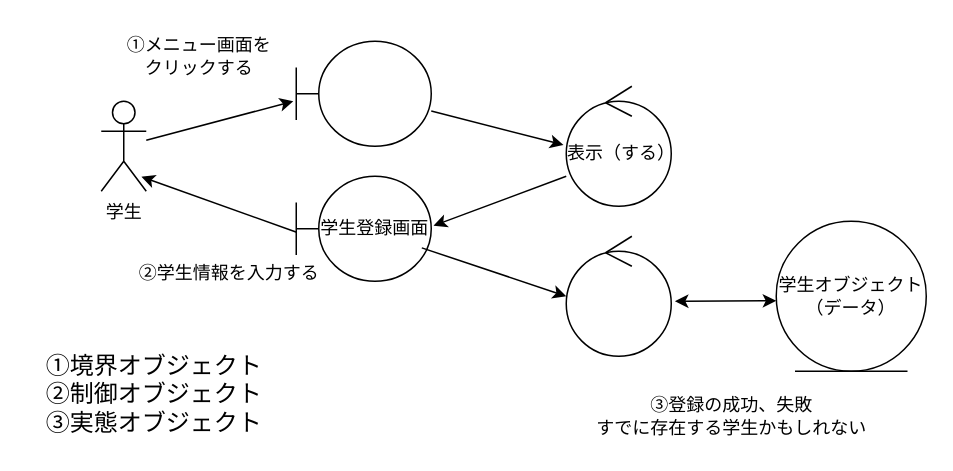
Some shapes in this 953 by 471 pixel diagram are drawn without their labels. Each missing label, with the box of its shape:
メニュー画面: (295, 40, 431, 146)
学生登録情報: (565, 235, 671, 356)
